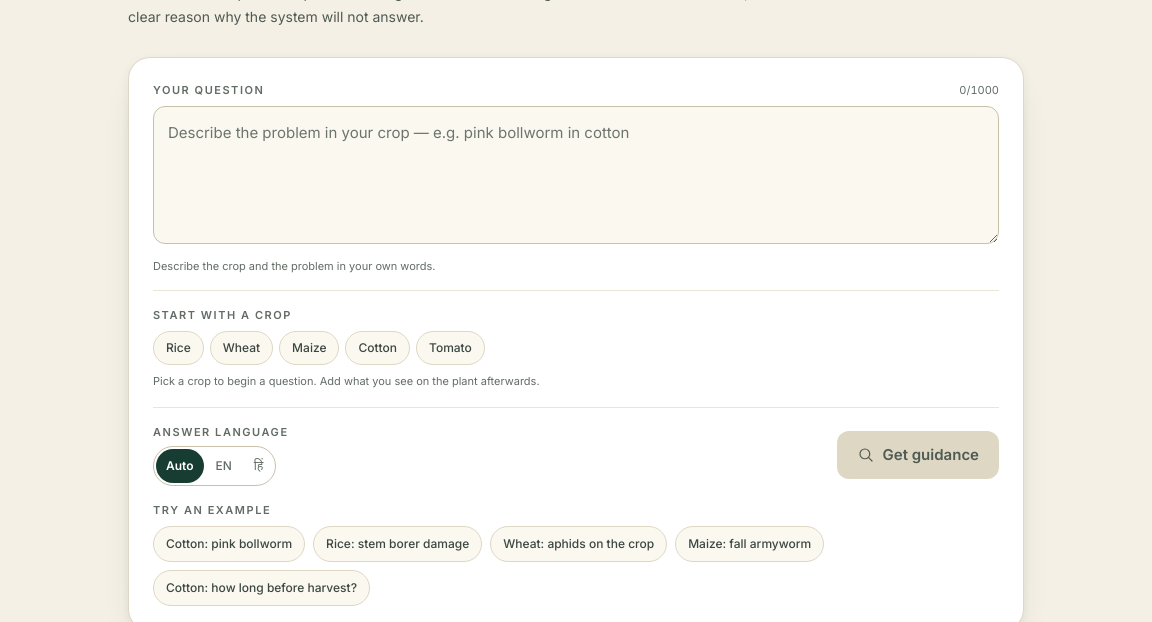
it: AdvisoryAssistant › shows the backend's own reason for a rejected request
This screenshot has width=1152, height=622.
Type "How do I control pink bollworm in cotton?" into the text box labelled "Your question" at [576, 175], box [153,106,999,244]
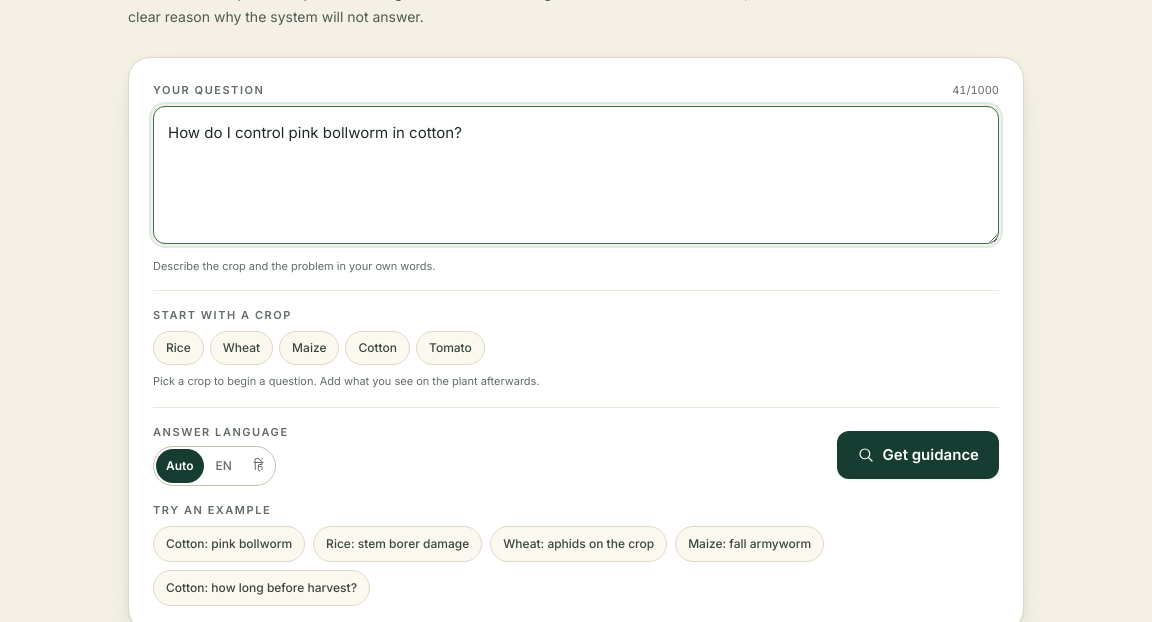
Click the button "Get guidance" at [918, 455], box [837,431,999,479]
(page scrolled)
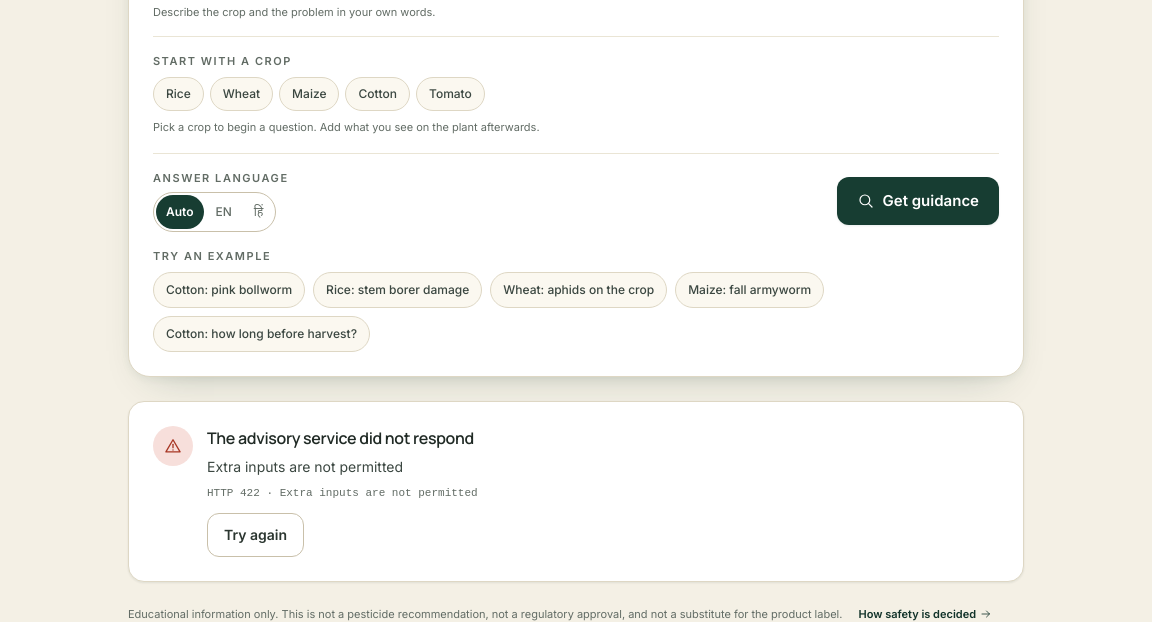
Check: the heading "The advisory service did not respond" is shown, box [207,426,478,451]
Check: the text "Extra inputs are not permitted" is shown, box [207,458,403,475]
Check: the text "HTTP 422 · Extra inputs are not permitted" is shown, box [207,485,478,501]
